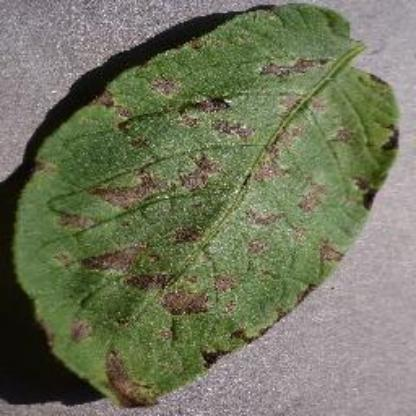Early-Blight: (14, 1, 404, 406)
